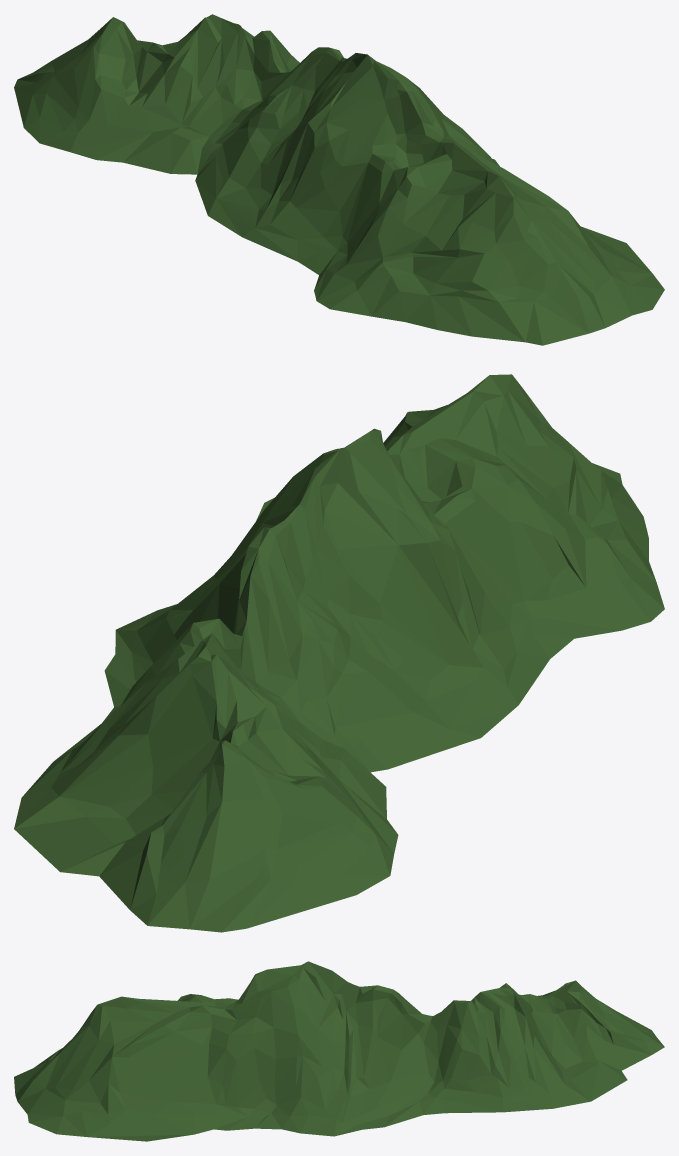
The model's file is SM_Env_Background_Hills_01.glb.
3 renders of one model, top to bottom at view 1: azimuth 30°, elevation 25°; view 2: azimuth 150°, elevation 25°; view 3: azimuth 270°, elevation 25°, orthographic. The views are drawn at different scales.
Visible parts, largest first — view 1: SM_Env_Background_Hills_01; view 2: SM_Env_Background_Hills_01; view 3: SM_Env_Background_Hills_01.
Boxes of the visible parts, x1=… form: SM_Env_Background_Hills_01: x1=14, y1=14, x2=664, y2=345; SM_Env_Background_Hills_01: x1=14, y1=374, x2=664, y2=932; SM_Env_Background_Hills_01: x1=14, y1=961, x2=664, y2=1141.
Bounding box in the file's own units: 0.3109 × 0.1335 × 0.6568.
